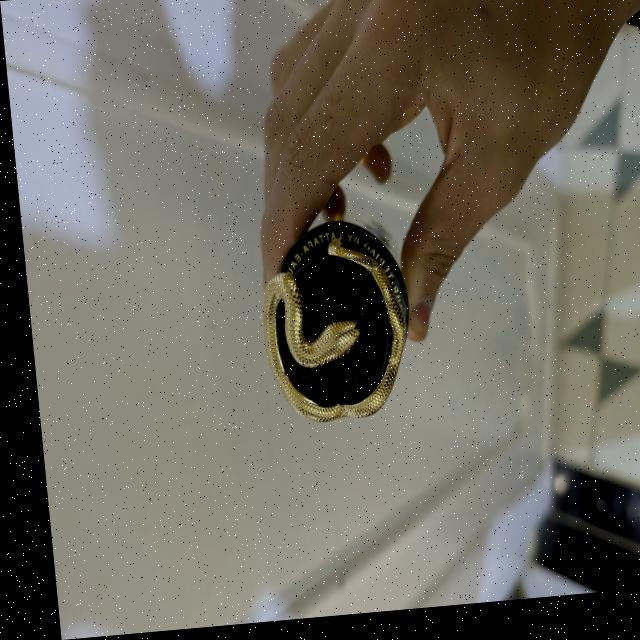Teriaq-Intense: (247, 220, 410, 431)
